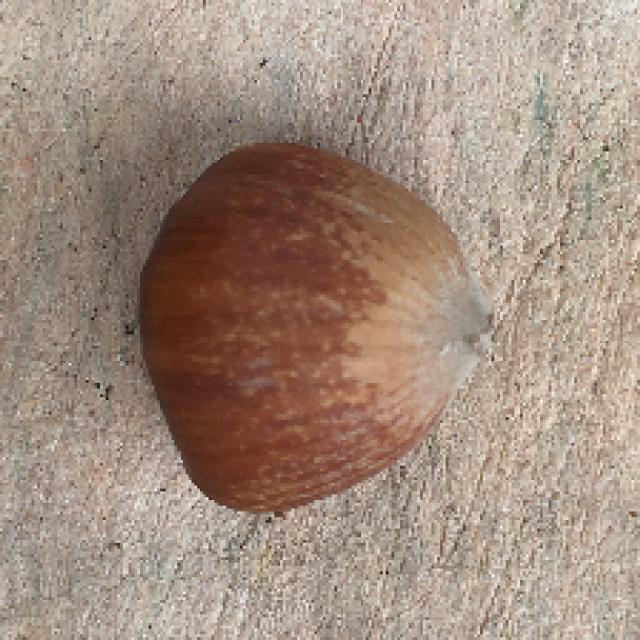qualityHazelnut: (145, 141, 493, 516)
